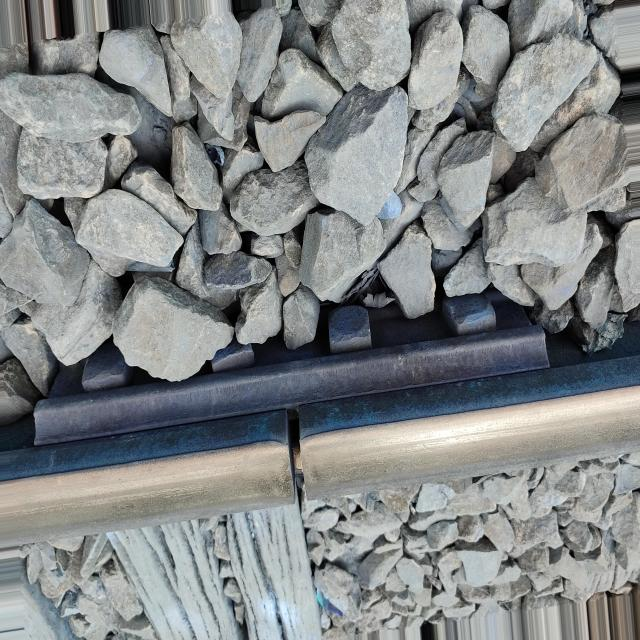crack: (244, 380, 328, 516)
